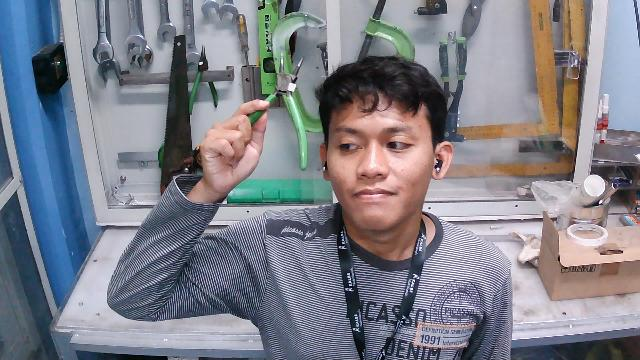tang_cucut_lancip_1: (224, 51, 319, 177)
